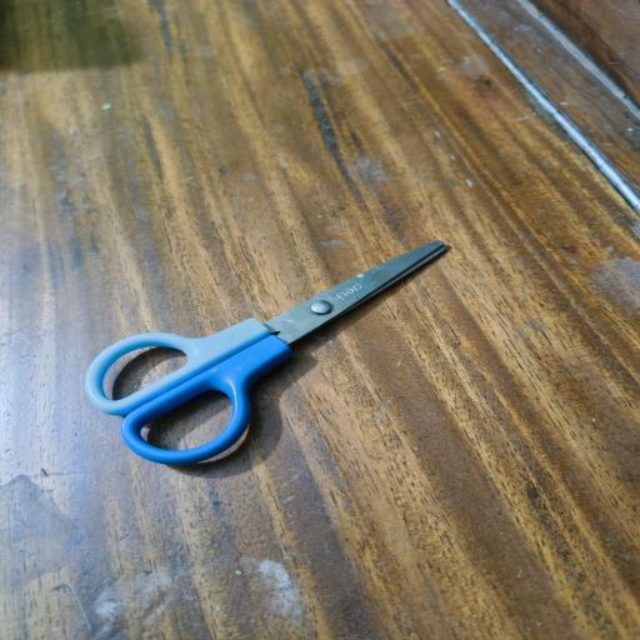scissor: (84, 240, 454, 464)
